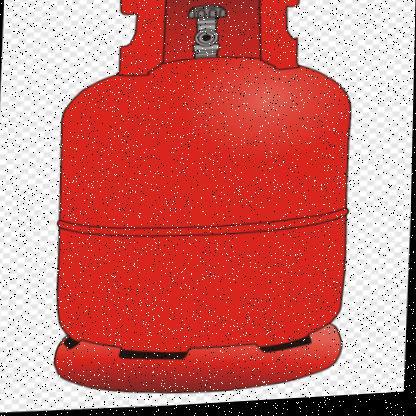gas-tank: (24, 0, 406, 415)
